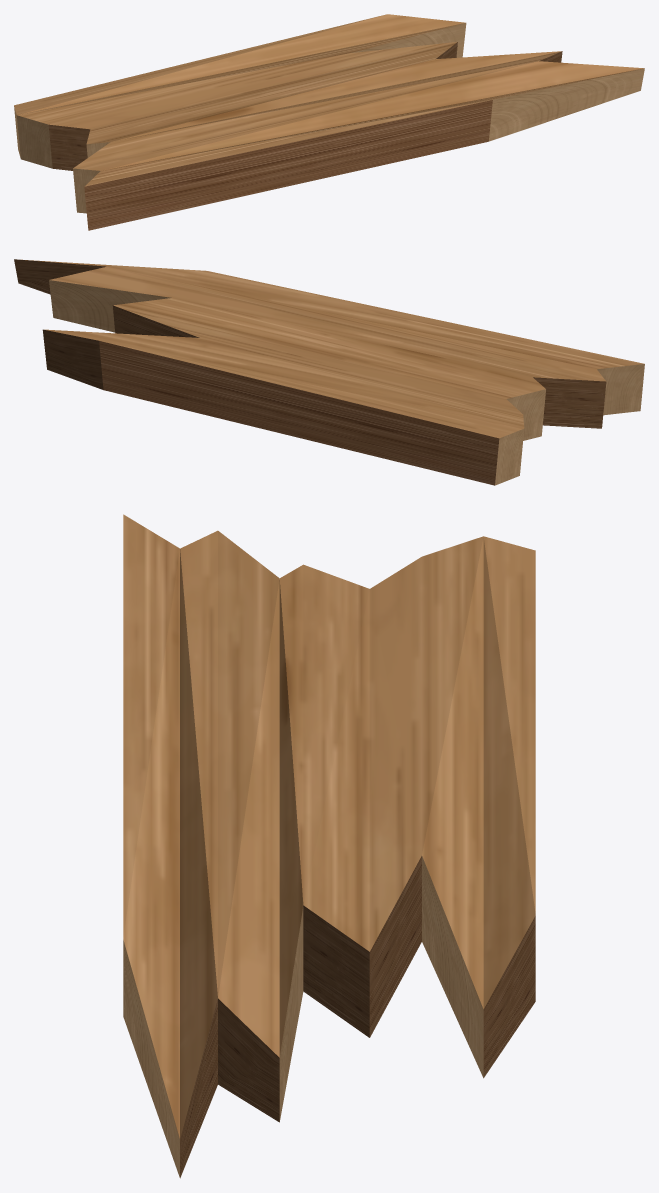
The model's file is debris_plank_fork.glb.
The picture shows the model from 3 angles, top to bottom: view 1: azimuth 30°, elevation 25°; view 2: azimuth 150°, elevation 25°; view 3: azimuth 270°, elevation 25°; orthographic projection. The views are drawn at different scales.
Parts seen in each view (by area): view 1: Forked Plank End; view 2: Forked Plank End; view 3: Forked Plank End.
Boxes of the visible parts, <box> form: Forked Plank End: <box>14,14,644,230</box>; Forked Plank End: <box>14,259,644,485</box>; Forked Plank End: <box>123,514,535,1178</box>.
Bounding box in the file's own units: 0.28 × 0.025 × 0.087.
Materials: 1 (1 with a texture image).
